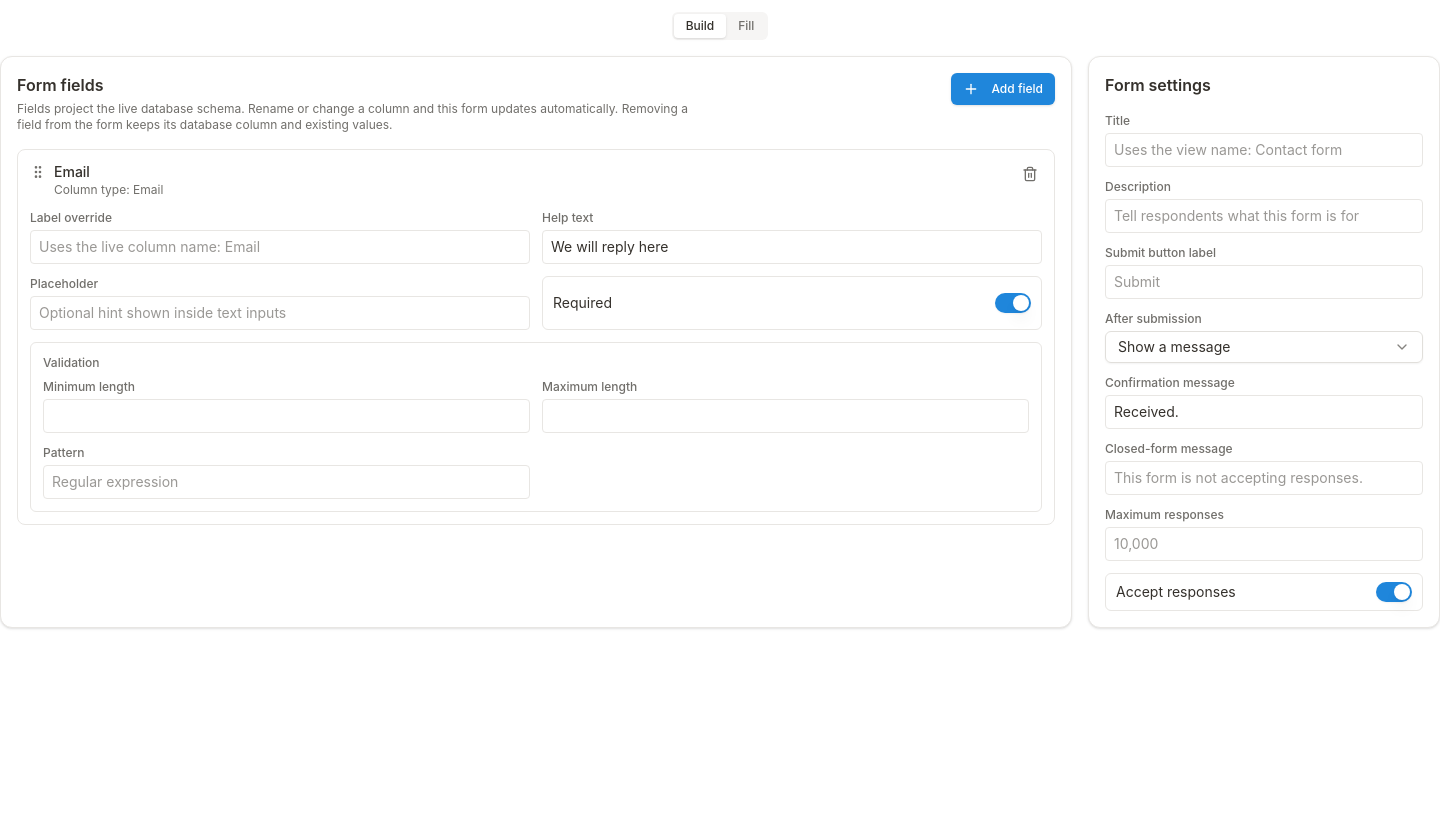
database form fill renderer › creates one allowlisted row and enters confirmation state
This screenshot has width=1440, height=822.
Click the button "Fill": (746,26) x1=726 y1=14 x2=766 y2=38
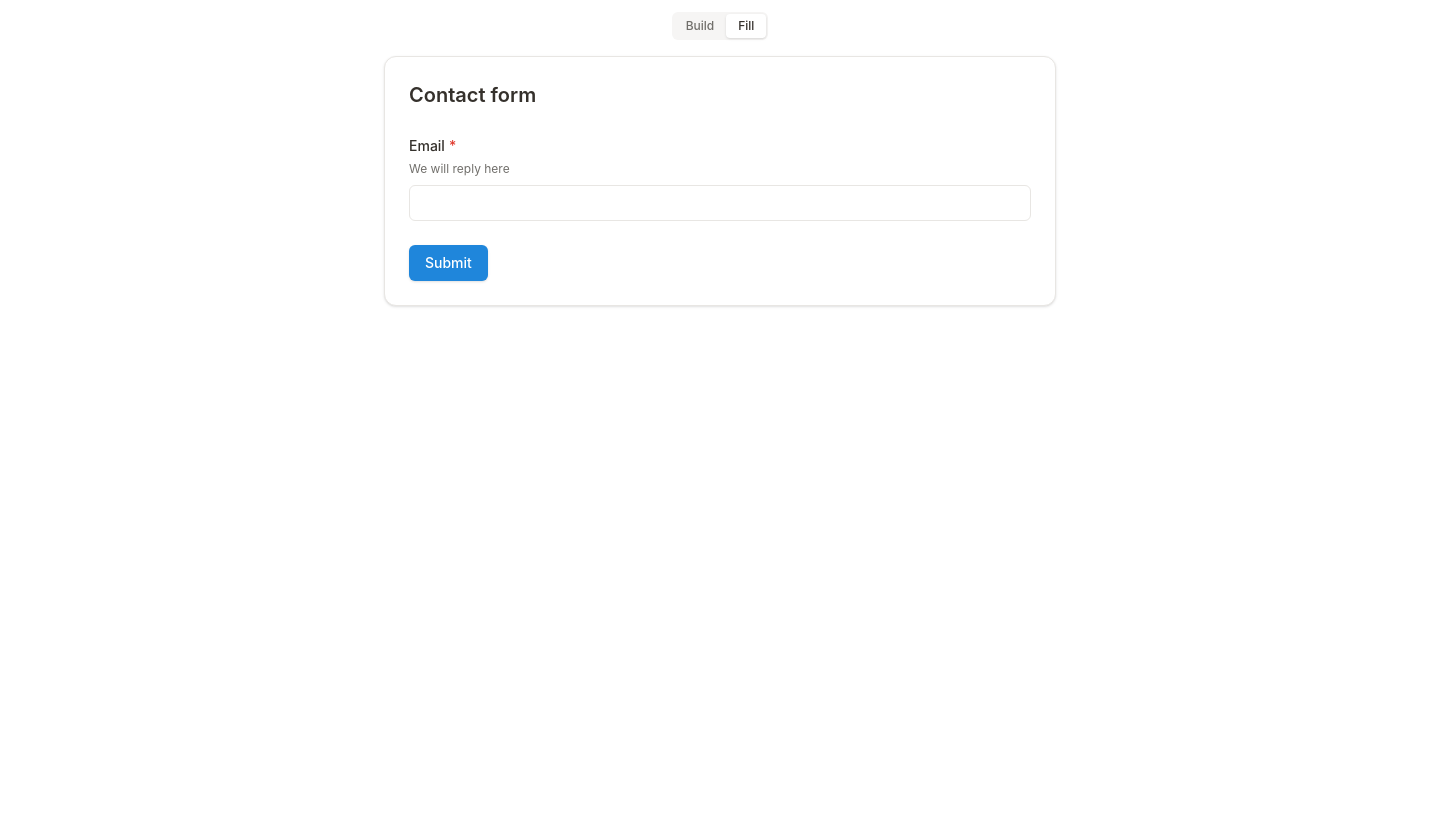
In the field named "Email (required)": (720,200) x1=410 y1=186 x2=1030 y2=214, type "reader@example.com"
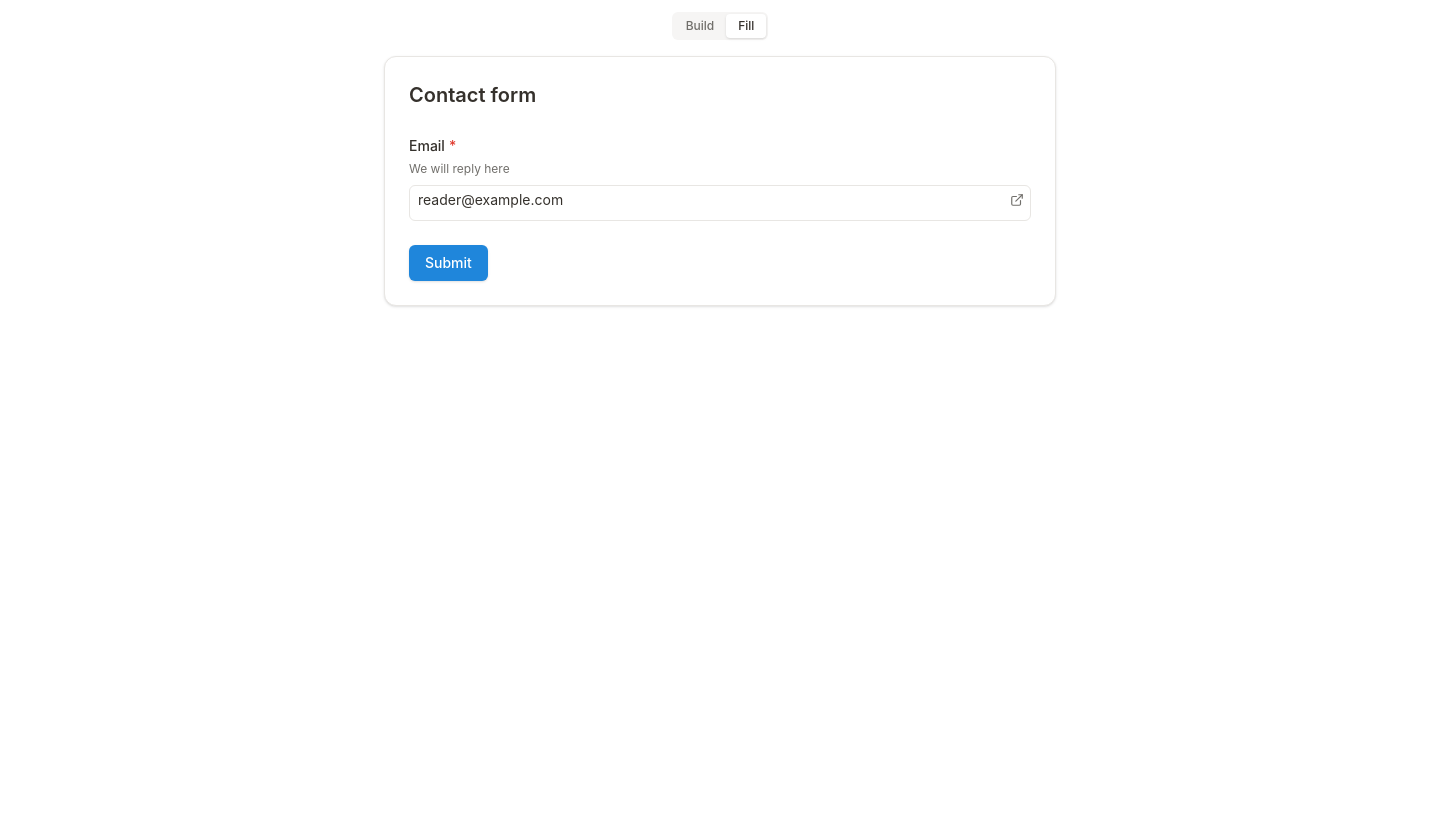
Click the button "Submit": (448,263) x1=409 y1=245 x2=488 y2=281
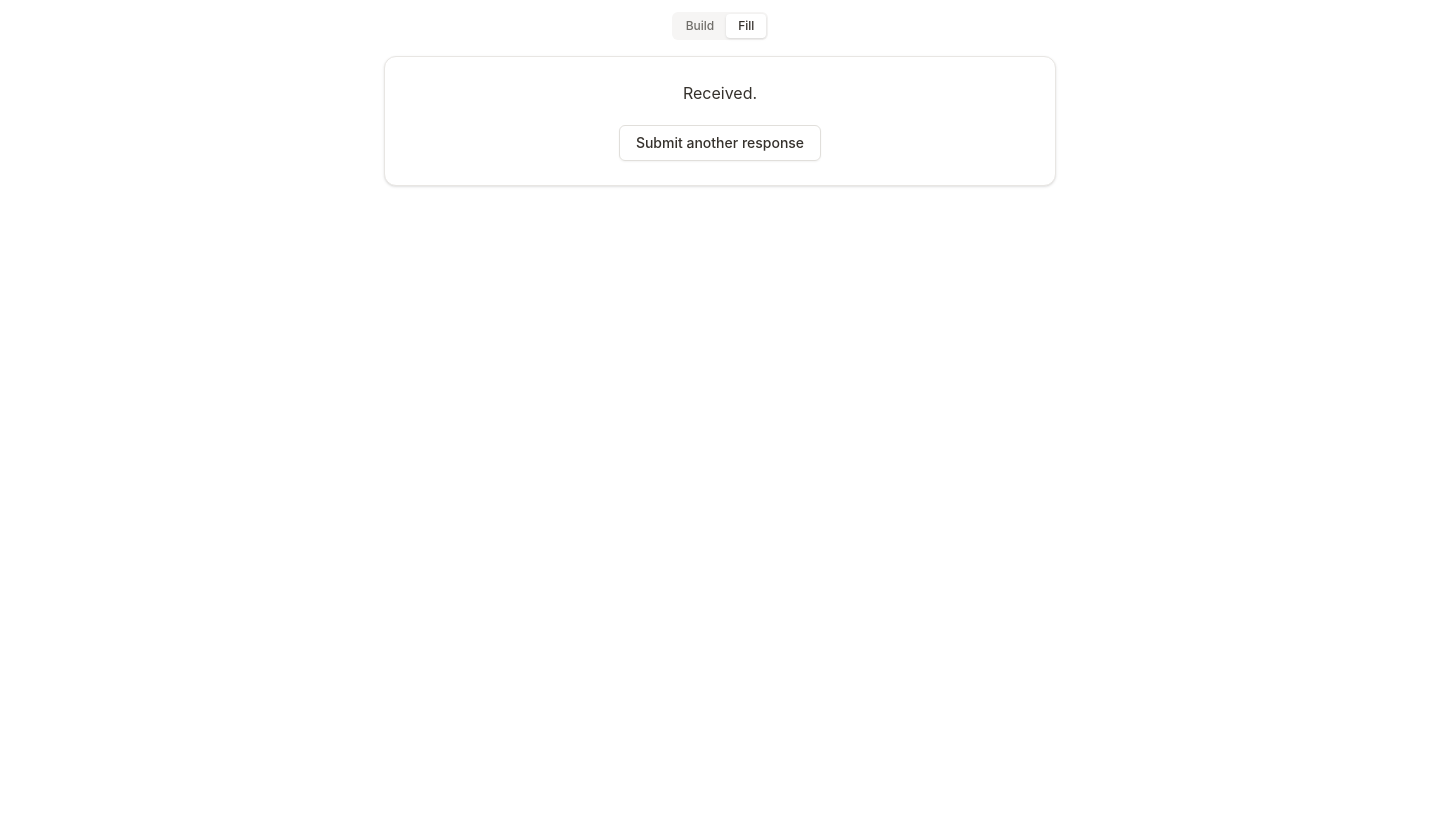
Now the text "Received." is shown, box x1=683 y1=83 x2=757 y2=103
Now the text "We will reply here" is gone
